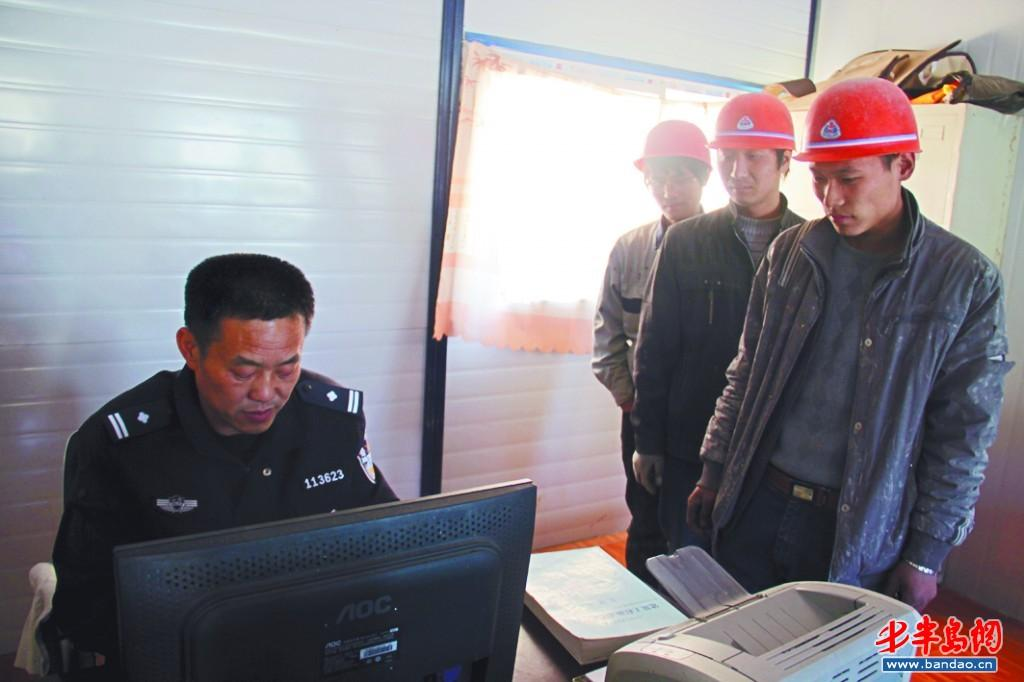helmet: (799, 74, 921, 165), (715, 97, 796, 152), (638, 121, 718, 172)
